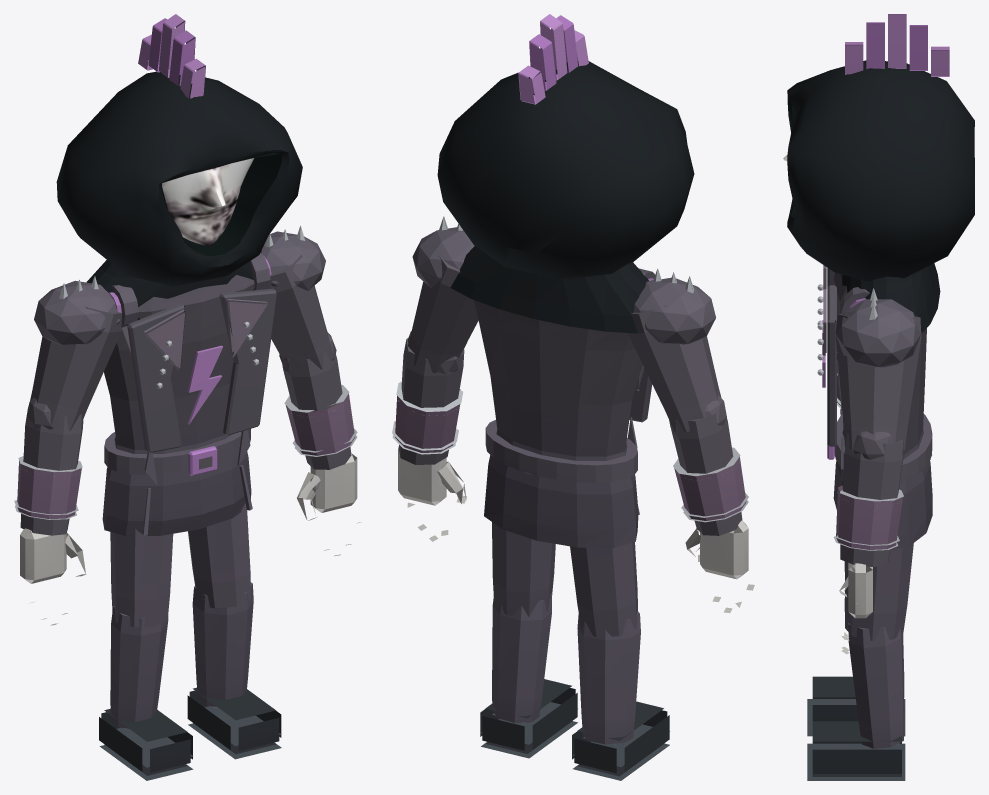
The model's file is HoodedStrangerPunk.glb.
3 views of the same model, side by side, from view 1: azimuth 30°, elevation 25°; view 2: azimuth 150°, elevation 25°; view 3: azimuth 270°, elevation 25° (orthographic). The views are drawn at different scales.
Visible parts, largest first — view 1: Head, Body, ArmR, ArmL, LegR, LegL, HeadFace; view 2: Head, Body, ArmR, LegR, ArmL, LegL; view 3: Head, ArmL, LegL, Body, LegR.
Part boxes in pixels (box(x1,y1,x2,y2)): Head: box(56, 14, 302, 325); Body: box(102, 253, 277, 536); ArmR: box(14, 276, 122, 625); ArmL: box(261, 226, 361, 556); LegR: box(99, 529, 193, 780); LegL: box(187, 503, 281, 759); HeadFace: box(162, 158, 254, 245); Head: box(437, 14, 694, 333); Body: box(473, 268, 654, 547); ArmR: box(627, 268, 754, 613); LegR: box(570, 542, 669, 780); ArmL: box(392, 216, 478, 541); LegL: box(480, 522, 577, 758); Head: box(787, 14, 974, 333); ArmL: box(833, 288, 921, 654); LegL: box(807, 543, 913, 780); Body: box(817, 265, 932, 550); LegR: box(807, 561, 905, 736).
Size of the model in its own units: 3.71 by 7.55 by 1.78.
2 materials, 1 textured.
